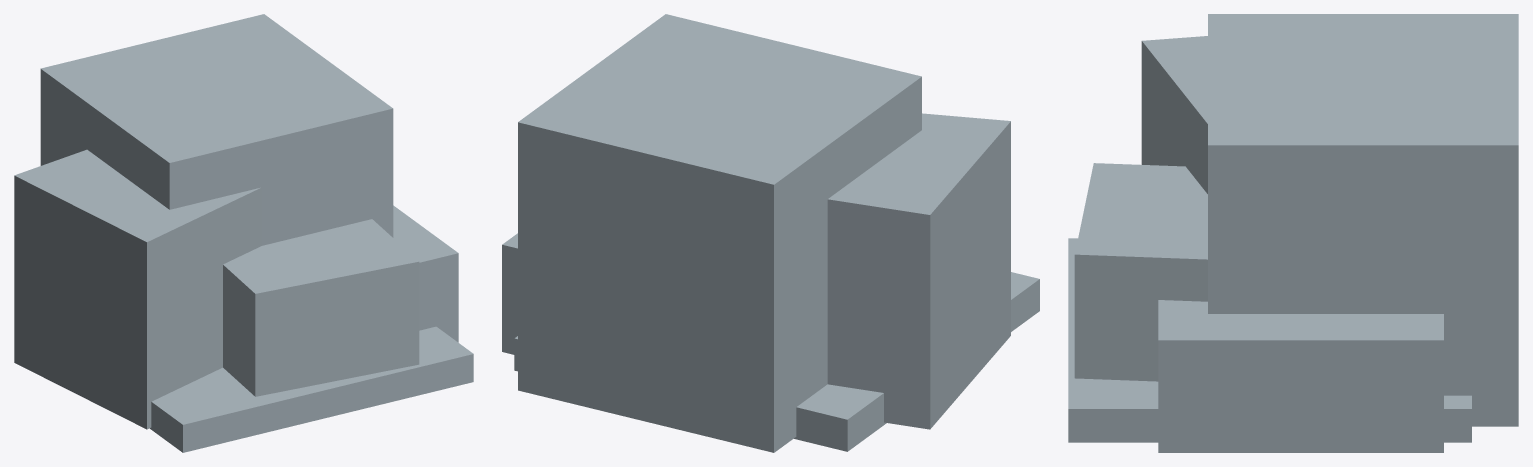
Rendered from Rock_04.fbx.
The picture shows the model from 3 angles, left to right: view 1: azimuth 30°, elevation 25°; view 2: azimuth 150°, elevation 25°; view 3: azimuth 270°, elevation 25°; orthographic projection. The views are drawn at different scales.
Visible parts, largest first — view 1: Cube.006; view 2: Cube.006; view 3: Cube.006.
Boxes of the visible parts, x1,y1,x2,y2 form: Cube.006: (14, 14, 473, 452); Cube.006: (502, 14, 1039, 452); Cube.006: (1068, 14, 1518, 452).
Bounding box in the file's own units: 2.5 × 1.62 × 2.32.
